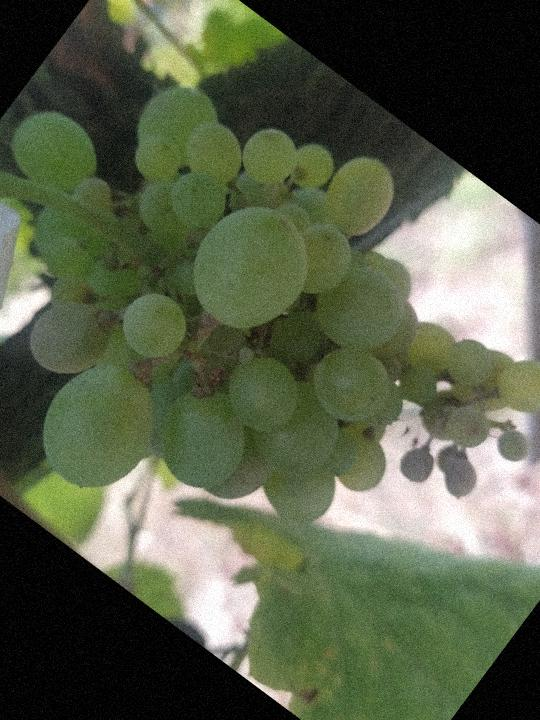grape: (0, 0, 540, 696)
